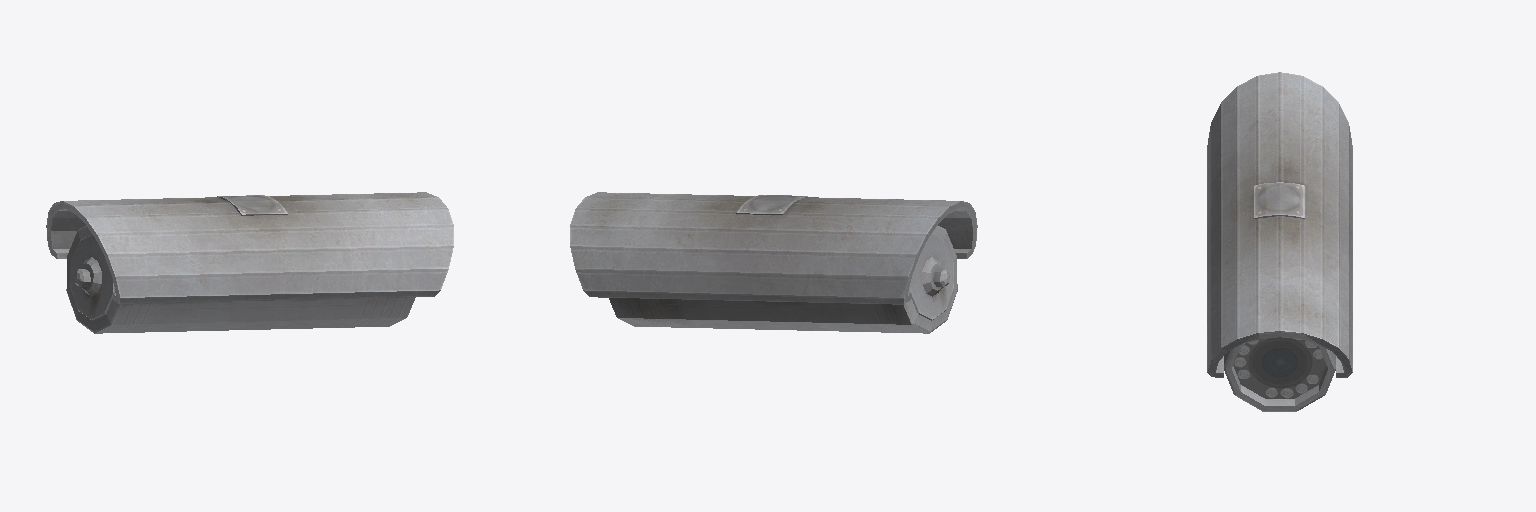
3 views of the same model, side by side, from view 1: azimuth 30°, elevation 25°; view 2: azimuth 150°, elevation 25°; view 3: azimuth 270°, elevation 25° (orthographic).
Visible parts, largest first — view 1: SM_TC5Cam; view 2: SM_TC5Cam; view 3: SM_TC5Cam.
Part boxes in pixels (bbox=[...]): SM_TC5Cam: bbox=[46, 192, 453, 333]; SM_TC5Cam: bbox=[570, 192, 977, 333]; SM_TC5Cam: bbox=[1207, 72, 1352, 411].
Bounding box in the file's own units: 4.9 × 2.42 × 1.69.
1 materials, 1 textured.